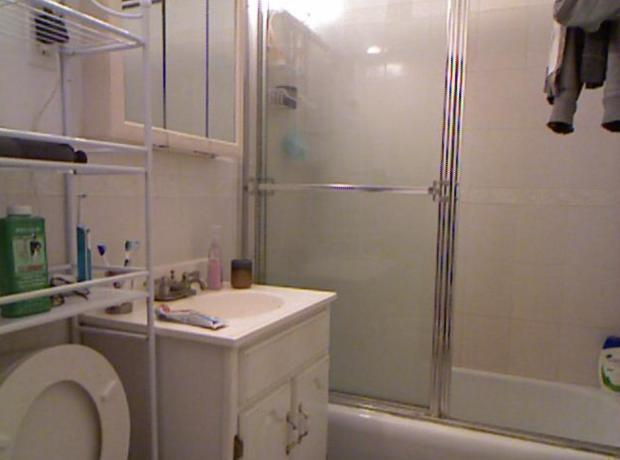Ducha: (261, 6, 616, 446)
Lavamanos: (144, 265, 297, 348)
Sanitario: (3, 346, 136, 456)
